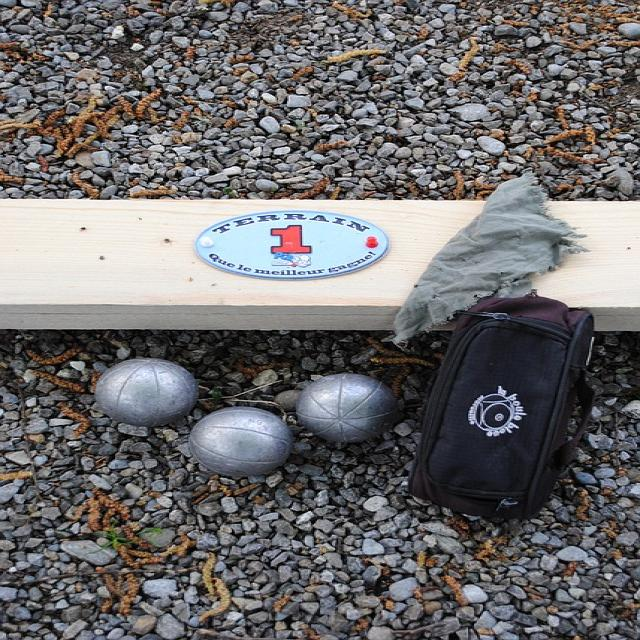petanque: (288, 368, 410, 459), (171, 406, 298, 483), (88, 358, 207, 435)
